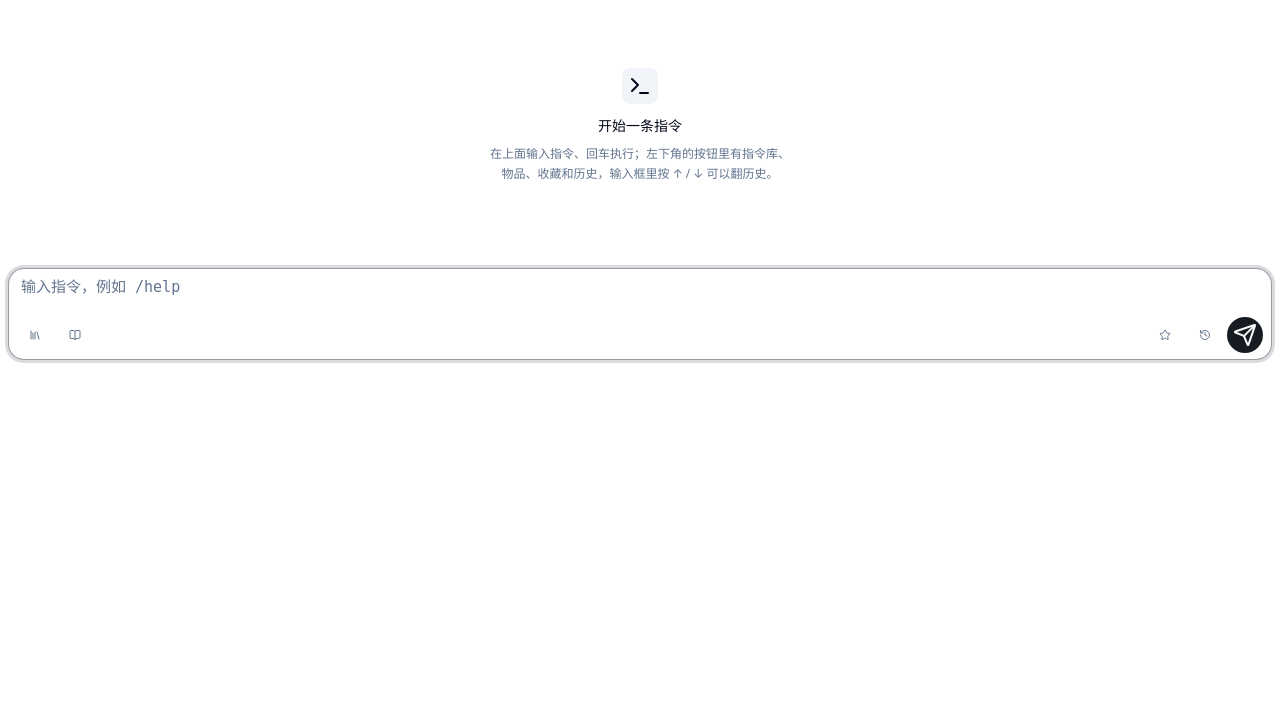
Test: CommandPage 工具弹框 › 点另一个工具按钮直接换面板，焦点跟着落到新面板的搜索框
The image size is (1280, 720).
Click the button named "指令库".
click(35, 335)  # box top-left (17, 317), bottom-right (53, 353)
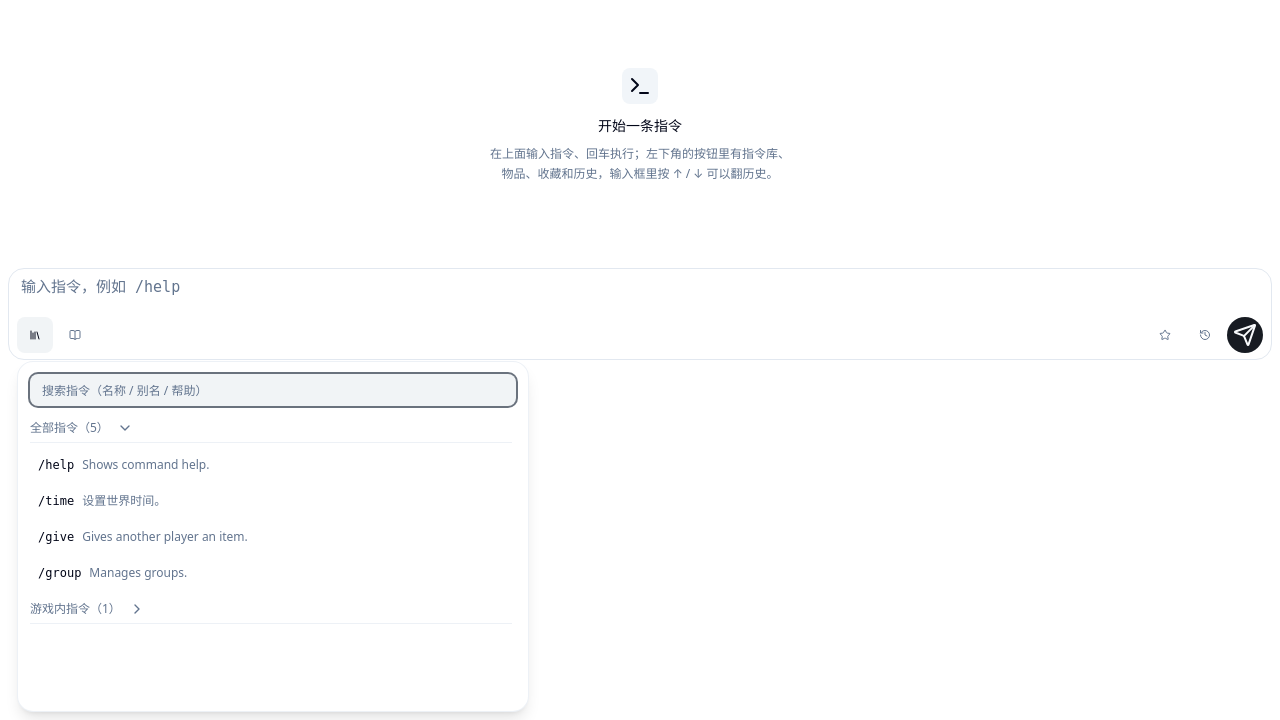
Click the button named "物品".
click(75, 335)  # box top-left (57, 317), bottom-right (93, 353)
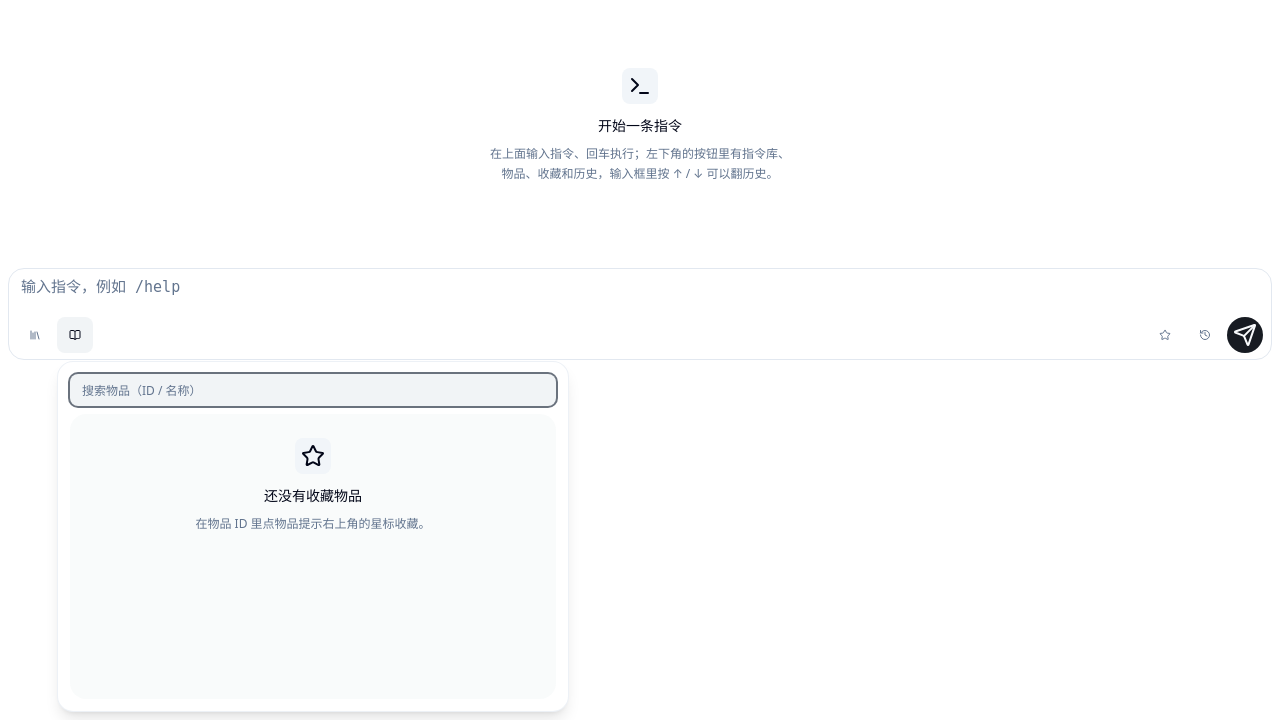
Expected: the field with placeholder "搜索物品（ID / 名称）" is shown, top-left (70, 374), bottom-right (556, 406)
